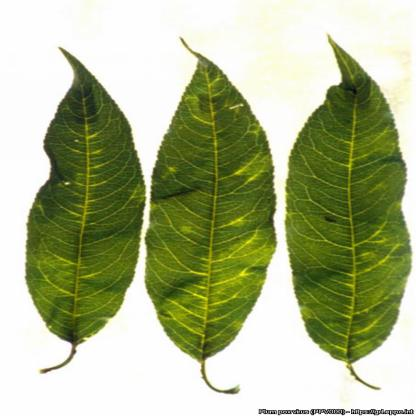peach leaf: (135, 33, 283, 401), (284, 24, 410, 398), (18, 35, 149, 380)
